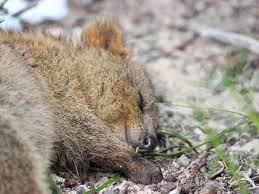quokka: (0, 22, 176, 194)
